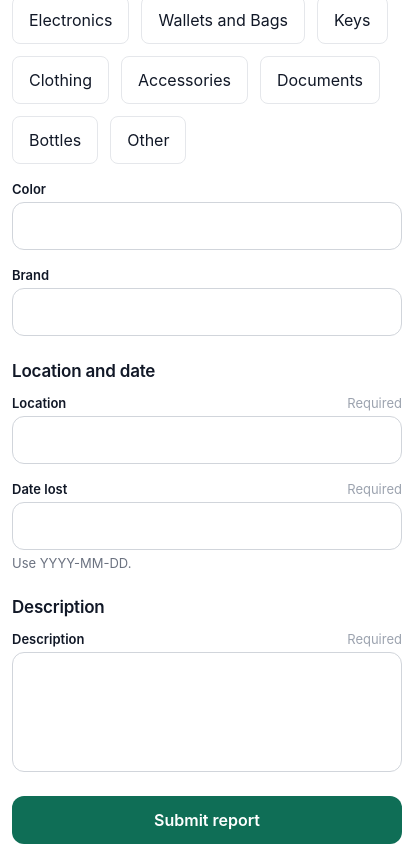
Test: ReportForm › shows required-field messages and does not submit an empty form
The width and height of the screenshot is (414, 844).
(page scrolled)
expect the text "Restoring your session" is not shown: met
Click the button "Submit report" at (207, 820), box [12,796,402,843]
(page scrolled)
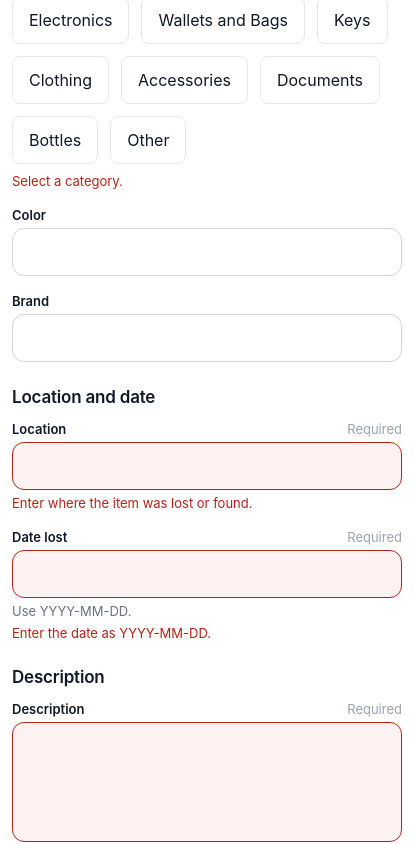
expect the text "Select a category." is shown: met, box [12,173,123,189]
expect the text "Enter where the item was lost or found." is shown: met, box [12,495,252,511]
expect the text "Enter the date as YYYY-MM-DD." is shown: met, box [12,625,211,641]
